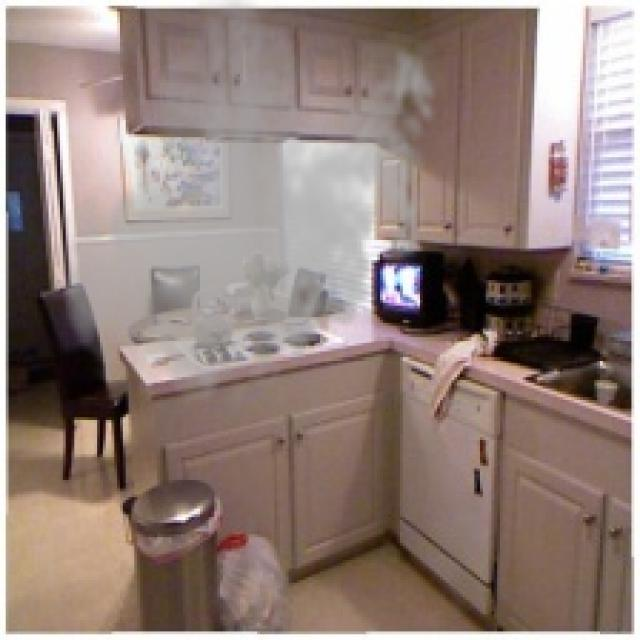smoke: (54, 0, 449, 417)
